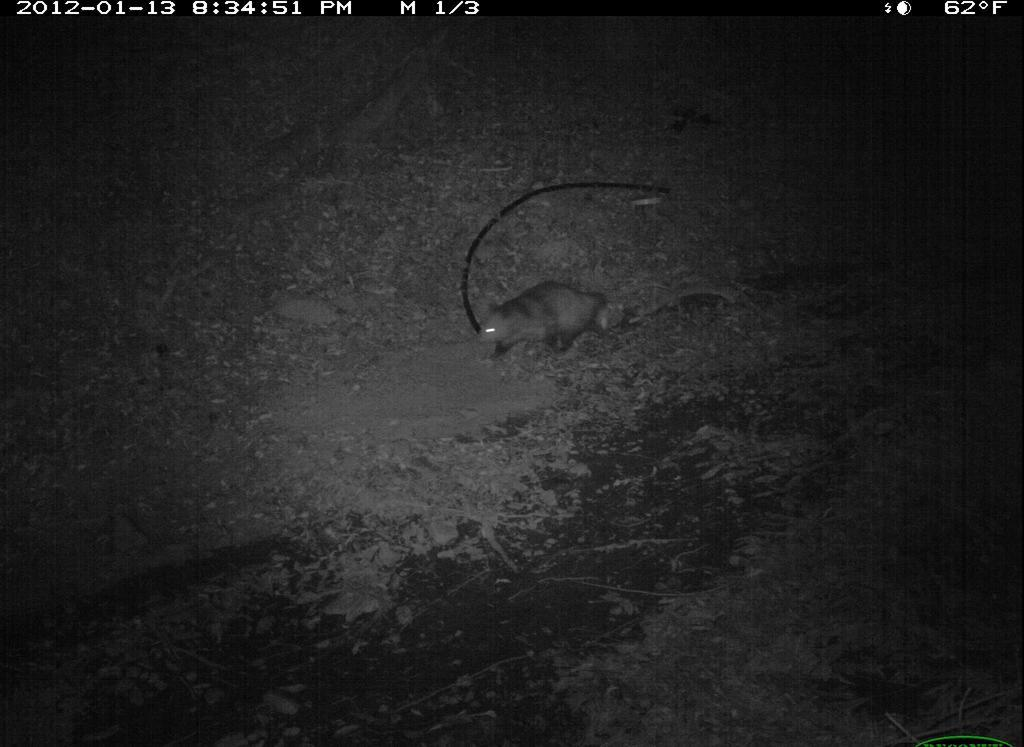opossum: (466, 269, 614, 367)
